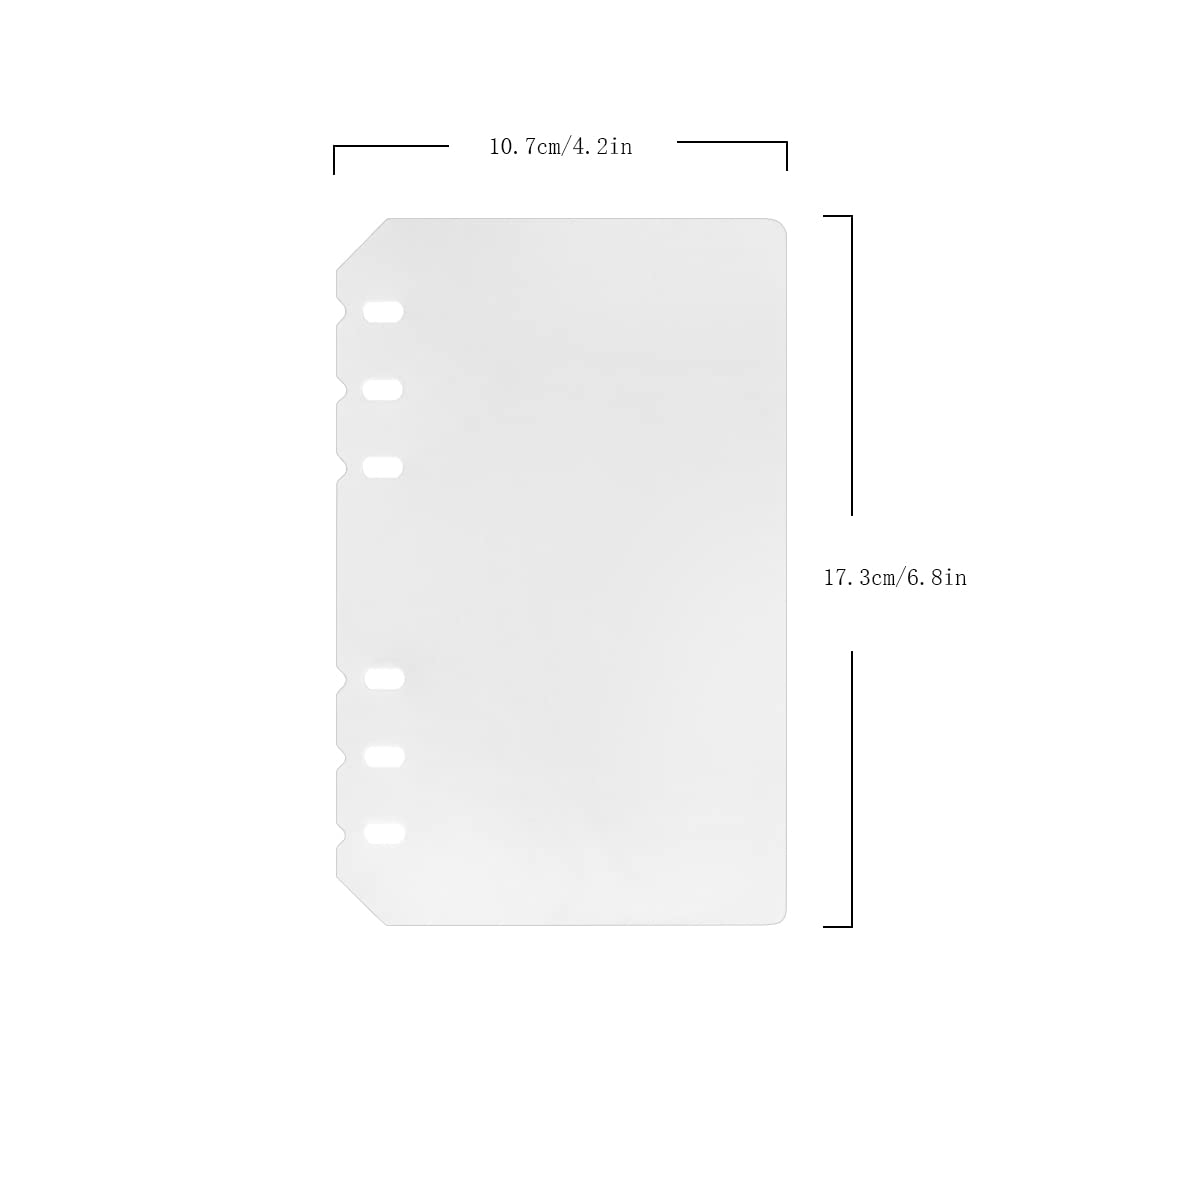10.: (491, 138, 516, 154)
17.: (826, 569, 851, 585)
2in: (598, 138, 632, 154)
3em/6.: (862, 568, 923, 587)
8in: (932, 569, 966, 585)
